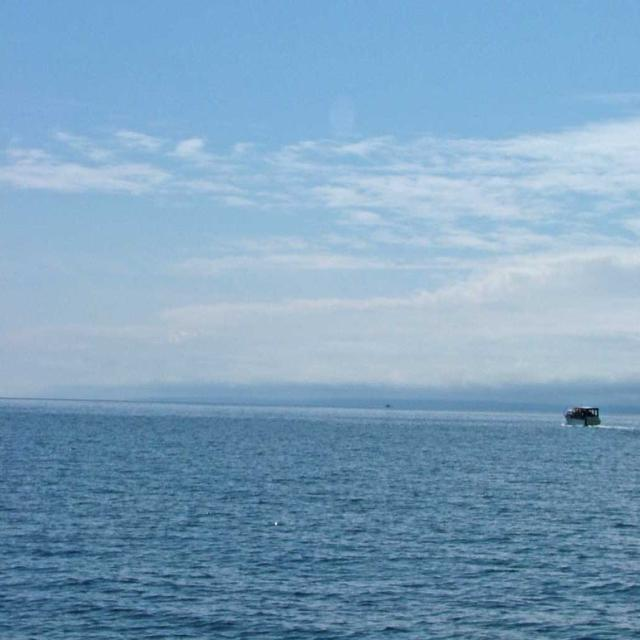houseboat: (556, 395, 605, 429)
